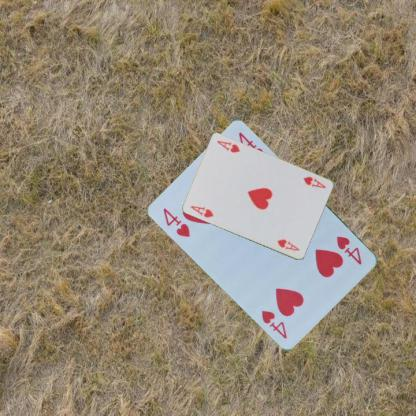4h: (160, 205, 192, 239), (334, 233, 363, 266)
Ah: (188, 203, 215, 219), (301, 174, 327, 189)
